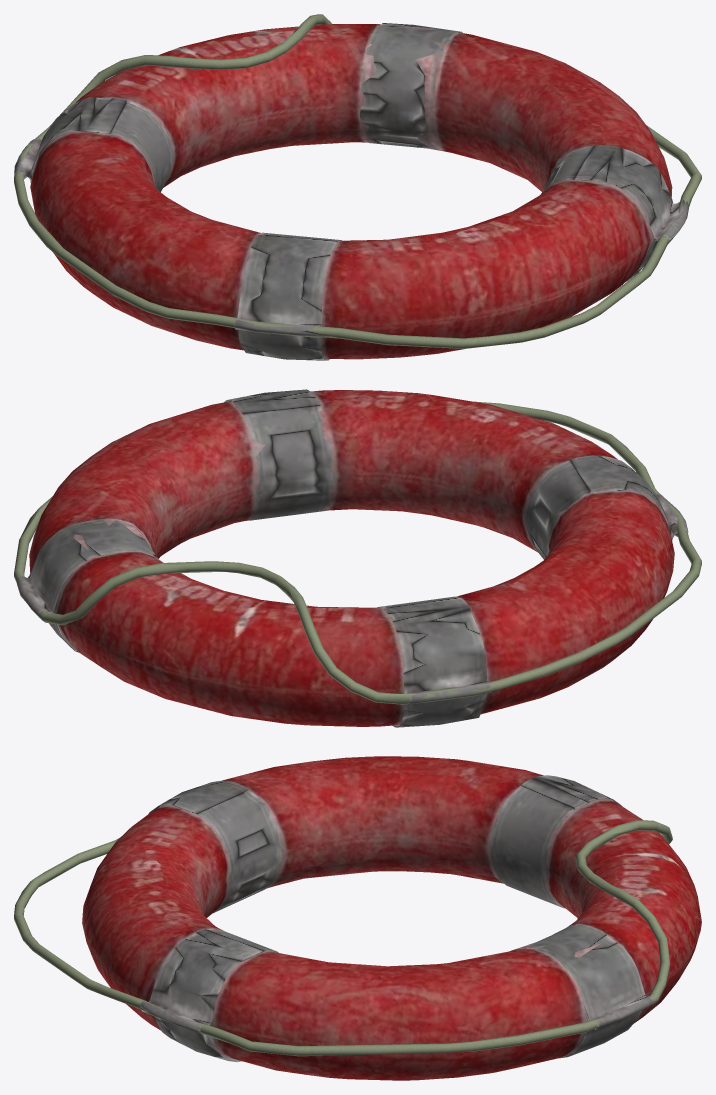
Rendered from lifebuoy.glb.
The picture shows the model from 3 angles, top to bottom: view 1: azimuth 30°, elevation 25°; view 2: azimuth 150°, elevation 25°; view 3: azimuth 270°, elevation 25°; orthographic projection. The views are drawn at different scales.
Parts seen in each view (by area): view 1: lifebuoy; view 2: lifebuoy; view 3: lifebuoy.
Part boxes in pixels (<box>): lifebuoy: <box>14,14,701,360</box>; lifebuoy: <box>14,389,701,727</box>; lifebuoy: <box>14,756,701,1080</box>.
Size of the model in its own units: 0.783 by 0.1548 by 0.8412.
Materials: 1 (1 with a texture image).
